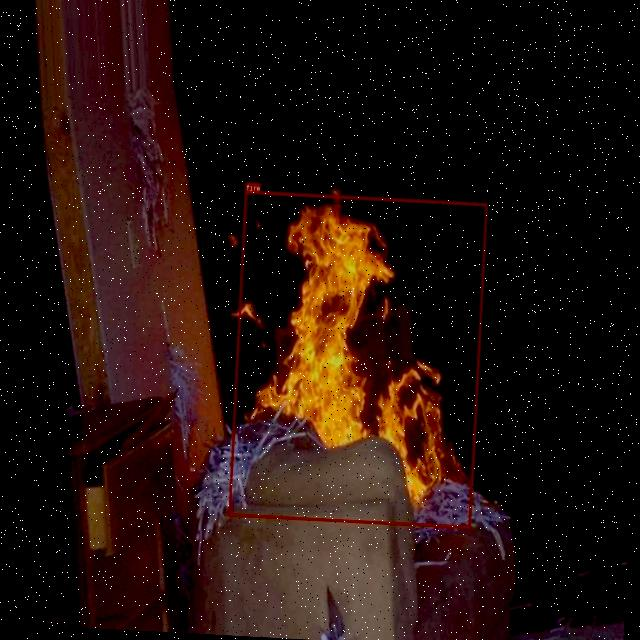fire: (228, 190, 487, 528)
